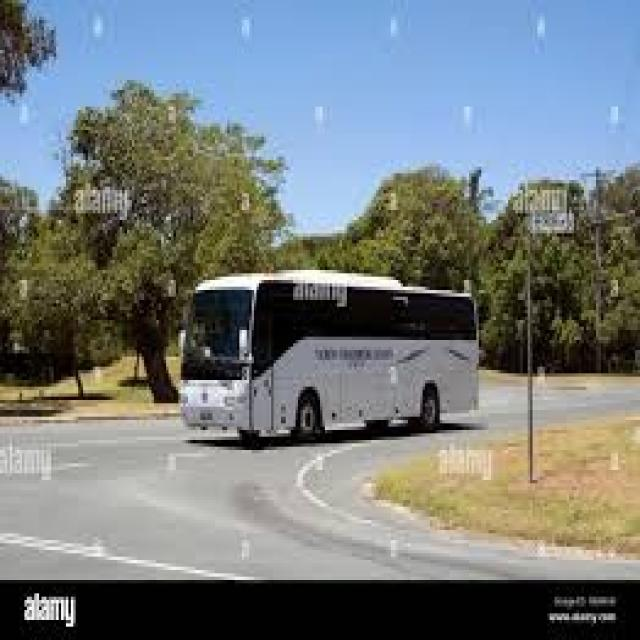bus: (177, 261, 495, 461)
